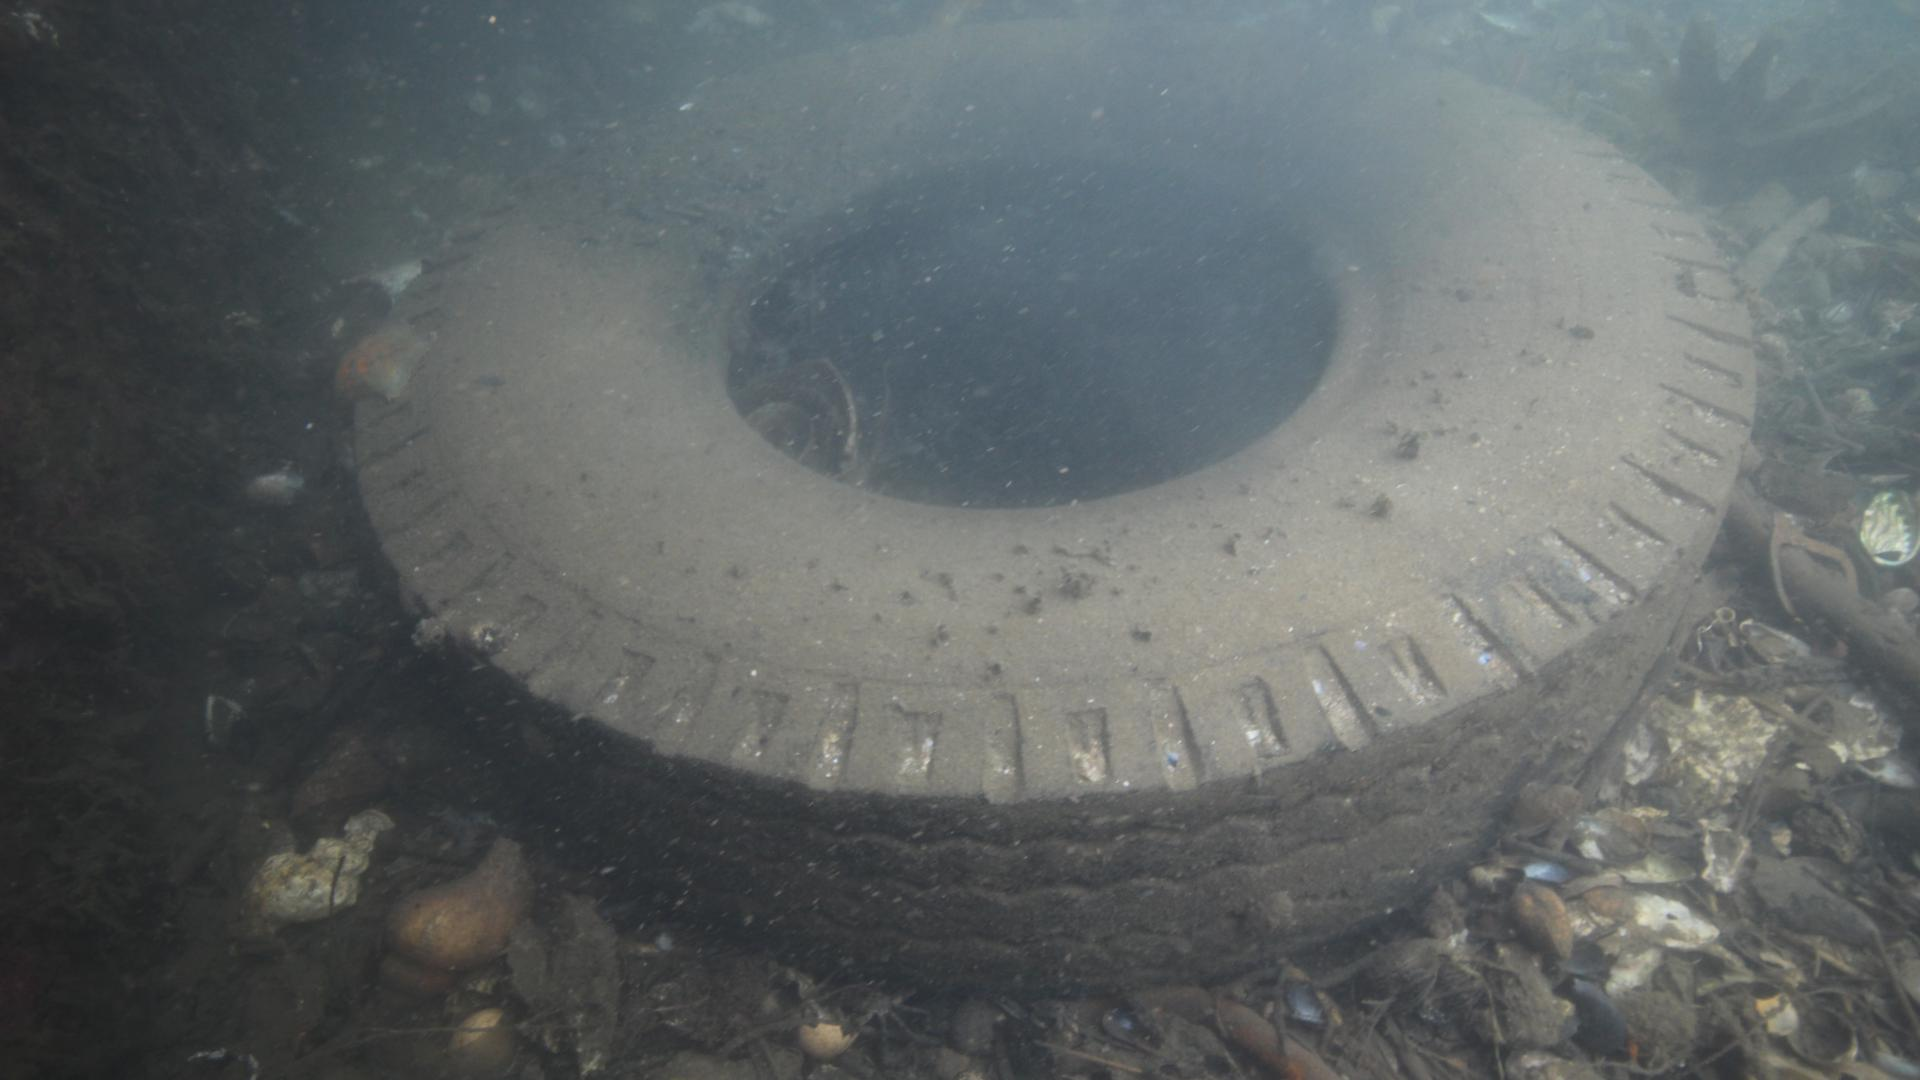tire: (349, 5, 1754, 1000)
